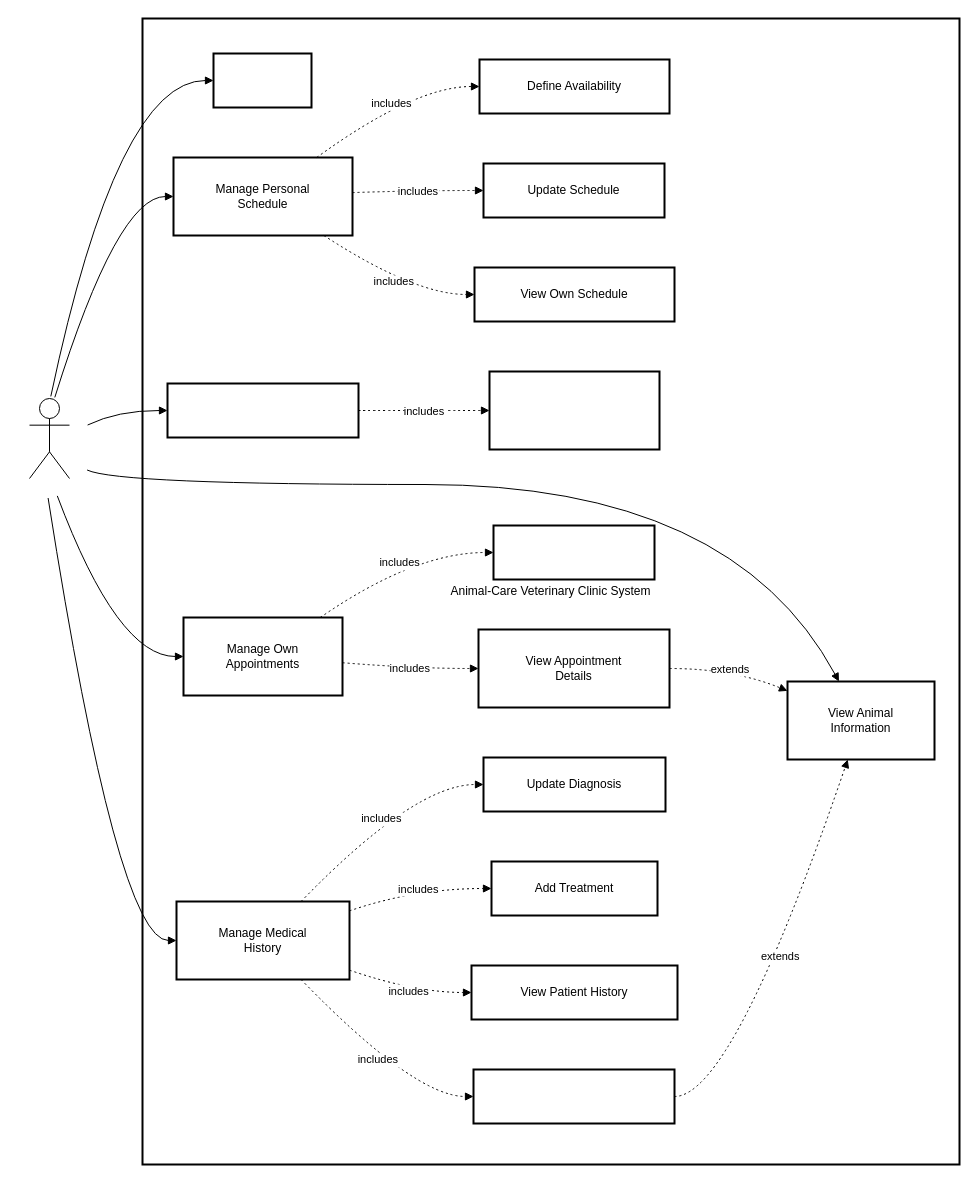
Some shapes in this 978 by 1182 pixel diagram are drawn without their labels. Each missing label, with the box of its shape:
Add Medical Record: (472, 1068, 675, 1124)
Login: (212, 52, 312, 108)
Update Status: (492, 524, 655, 580)
Veterinarian: (28, 398, 70, 478)
View Daily Agenda: (166, 382, 359, 438)
View Upcoming Appointments: (488, 370, 660, 450)
